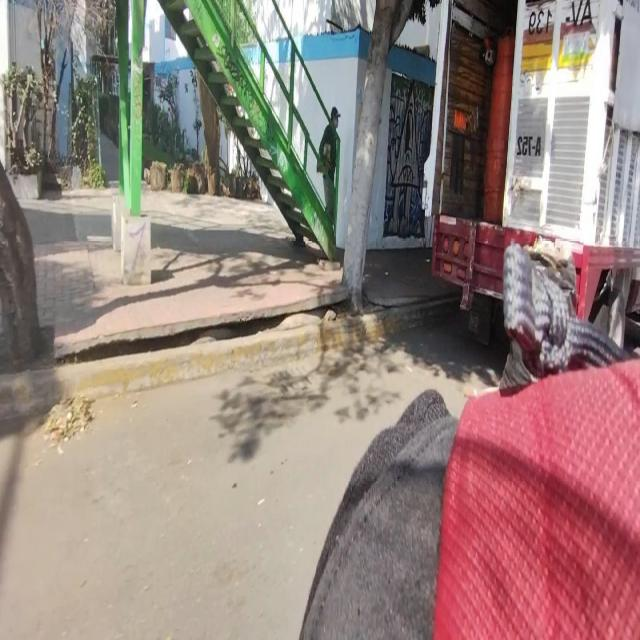adult: (319, 106, 340, 218)
